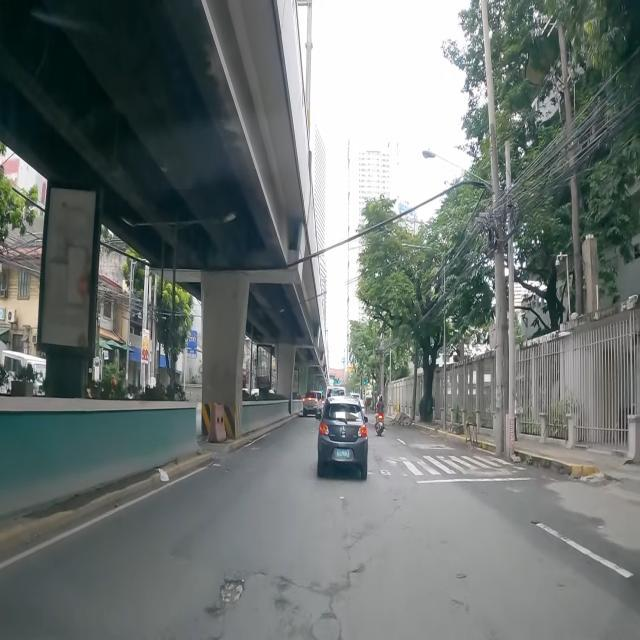car: (317, 396, 368, 479), (302, 391, 318, 416)
motorcycle: (374, 394, 384, 436)
